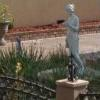Statue: (52, 1, 96, 76)
